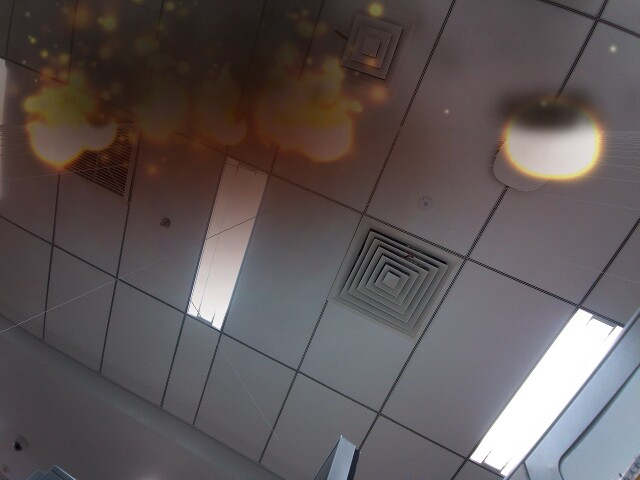fire: (502, 96, 602, 181), (27, 106, 83, 164), (299, 111, 356, 163), (83, 112, 118, 153), (217, 114, 248, 146)
